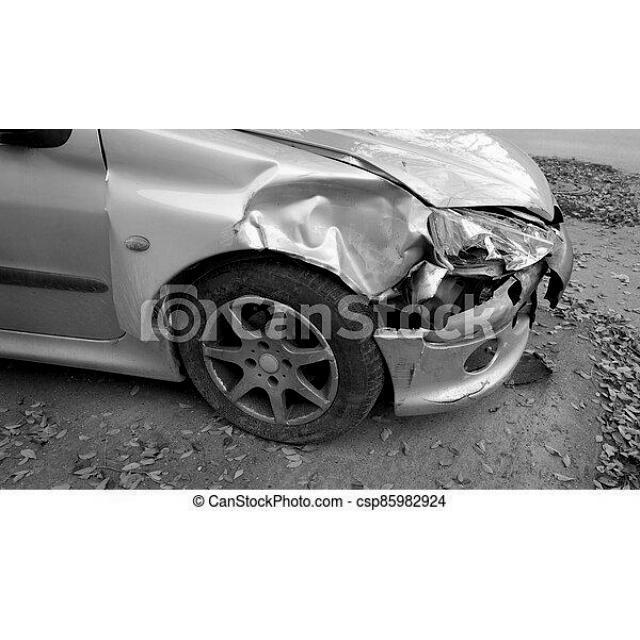Headlight-damage: (404, 201, 570, 275)
fender-dent: (97, 164, 395, 328)
front-bumper-dent: (354, 265, 565, 421)
